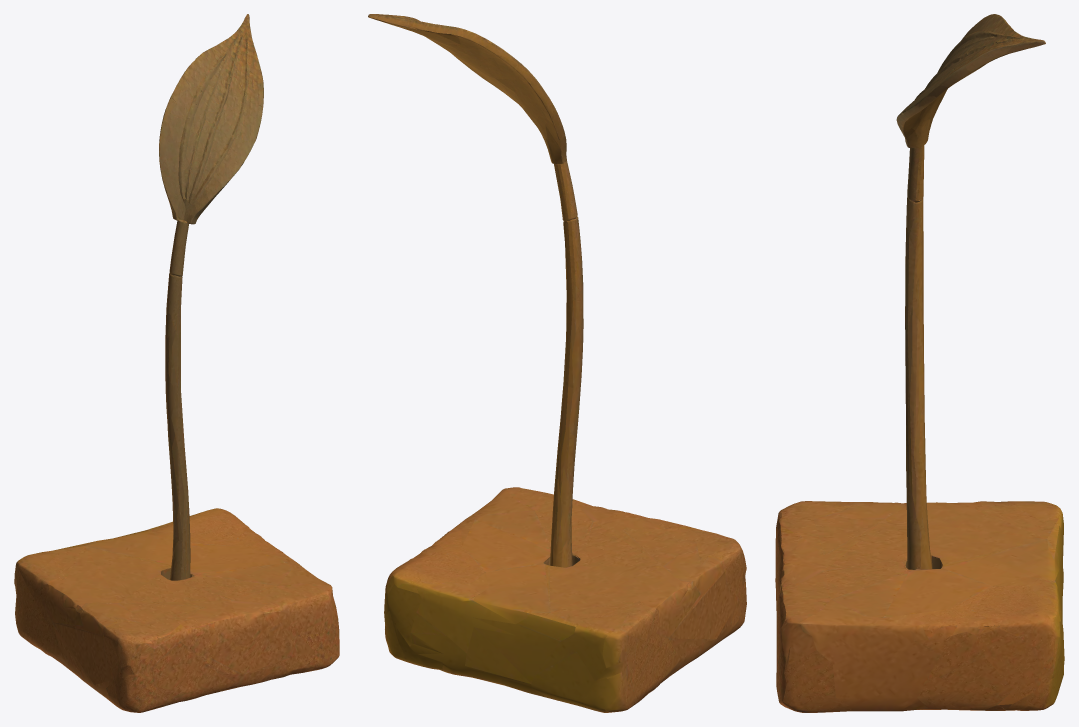
The model's file is reed.glb.
3 views of the same model, side by side, from view 1: azimuth 30°, elevation 25°; view 2: azimuth 150°, elevation 25°; view 3: azimuth 270°, elevation 25° (orthographic). The views are drawn at different scales.
Visible parts, largest first — view 1: mesh_node; view 2: mesh_node; view 3: mesh_node.
Part boxes in pixels (box(x1,y1,x2,y2)): mesh_node: box(14, 14, 339, 712); mesh_node: box(368, 14, 746, 712); mesh_node: box(775, 14, 1064, 712).
Bounding box in the file's own units: 0.8164 × 1.9 × 0.7302.
Materials: 1 (1 with a texture image).
